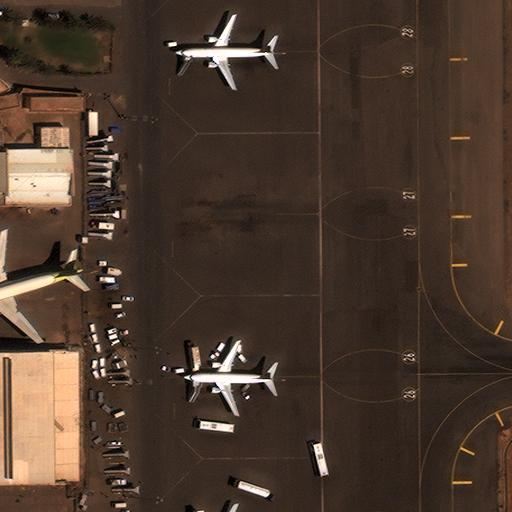Large Civil Transport: (0, 231, 96, 345)
Medium Civil Transport: (183, 339, 286, 415), (174, 15, 274, 89)
